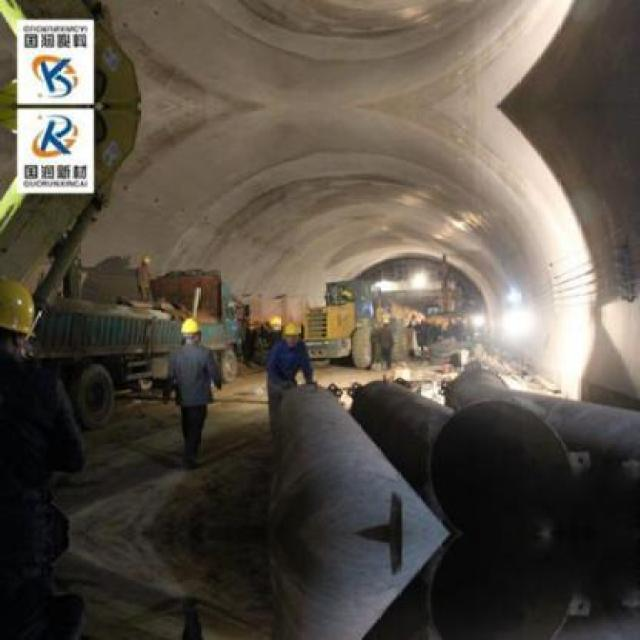helmet: (1, 275, 36, 353), (180, 316, 202, 346), (282, 320, 303, 348)
